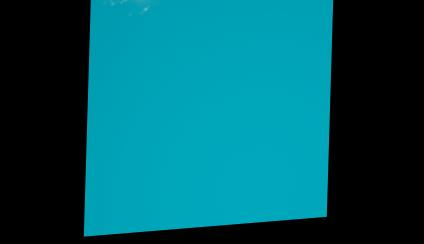land_base: (89, 0, 163, 57)
